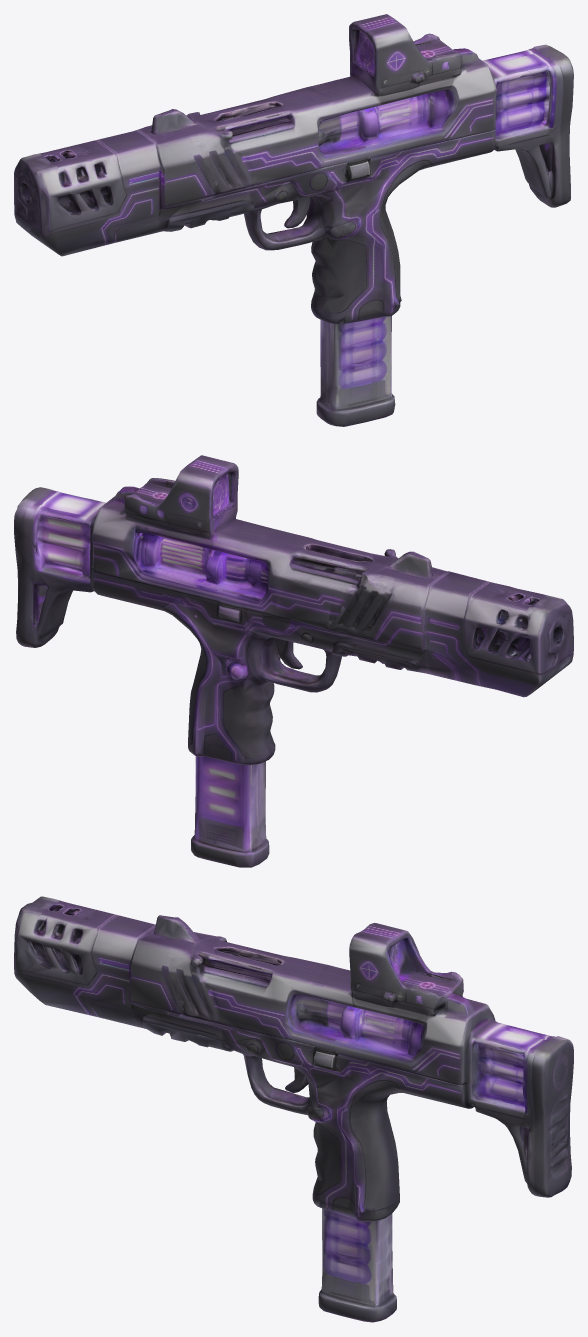
File: Pulse_SMG.fbx
3 views of the same model, one above another, from view 1: azimuth 30°, elevation 25°; view 2: azimuth 150°, elevation 25°; view 3: azimuth 330°, elevation 25° (orthographic).
Visible parts, largest first — view 1: Mesh_0; view 2: Mesh_0; view 3: Mesh_0.
Boxes of the visible parts, box(x1,y1,x2,y2) form: Mesh_0: box(14, 14, 573, 426); Mesh_0: box(14, 455, 573, 867); Mesh_0: box(14, 896, 573, 1322).
Size of the model in its own units: 200 by 137 by 24.75.
Materials: 1 (1 with a texture image).
